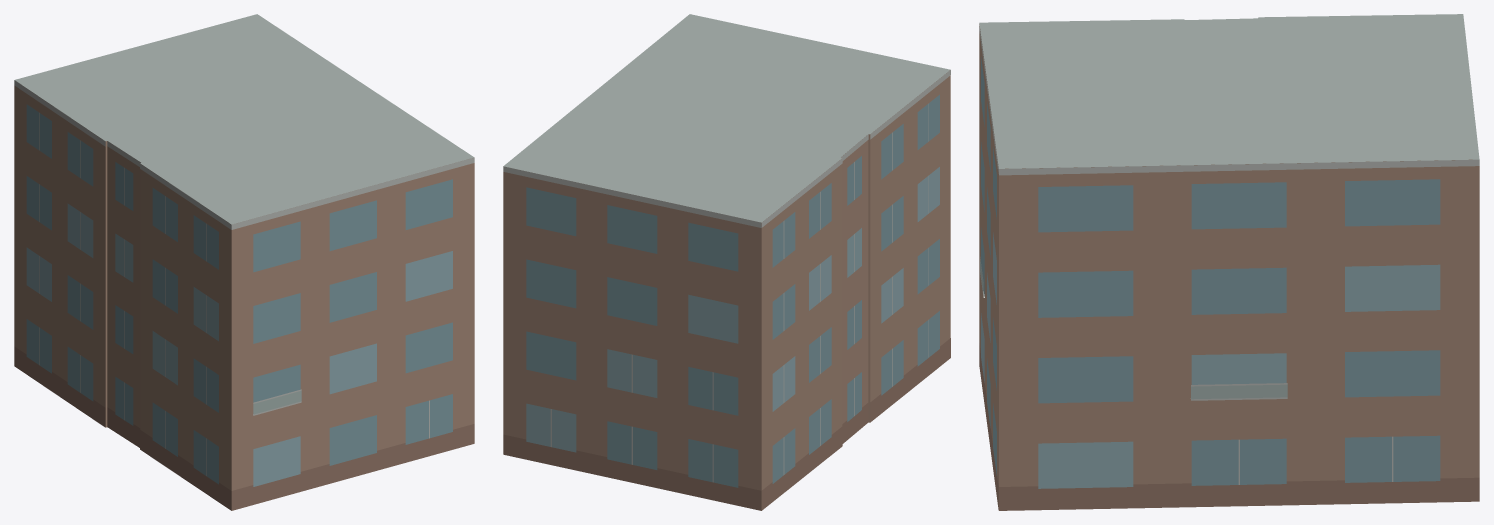
Rendered from survey-upis-32660680.glb.
3 renders of one model, left to right at view 1: azimuth 30°, elevation 25°; view 2: azimuth 150°, elevation 25°; view 3: azimuth 270°, elevation 25°, orthographic. The views are drawn at different scales.
Visible parts, largest first — view 1: survey-upis-32660680.tmp; view 2: survey-upis-32660680.tmp; view 3: survey-upis-32660680.tmp.
Boxes of the visible parts, <box> form: survey-upis-32660680.tmp: <box>14,14,474,510</box>; survey-upis-32660680.tmp: <box>503,14,950,510</box>; survey-upis-32660680.tmp: <box>979,14,1479,510</box>.
Size of the model in its own units: 12.49 by 12.85 by 17.05.
